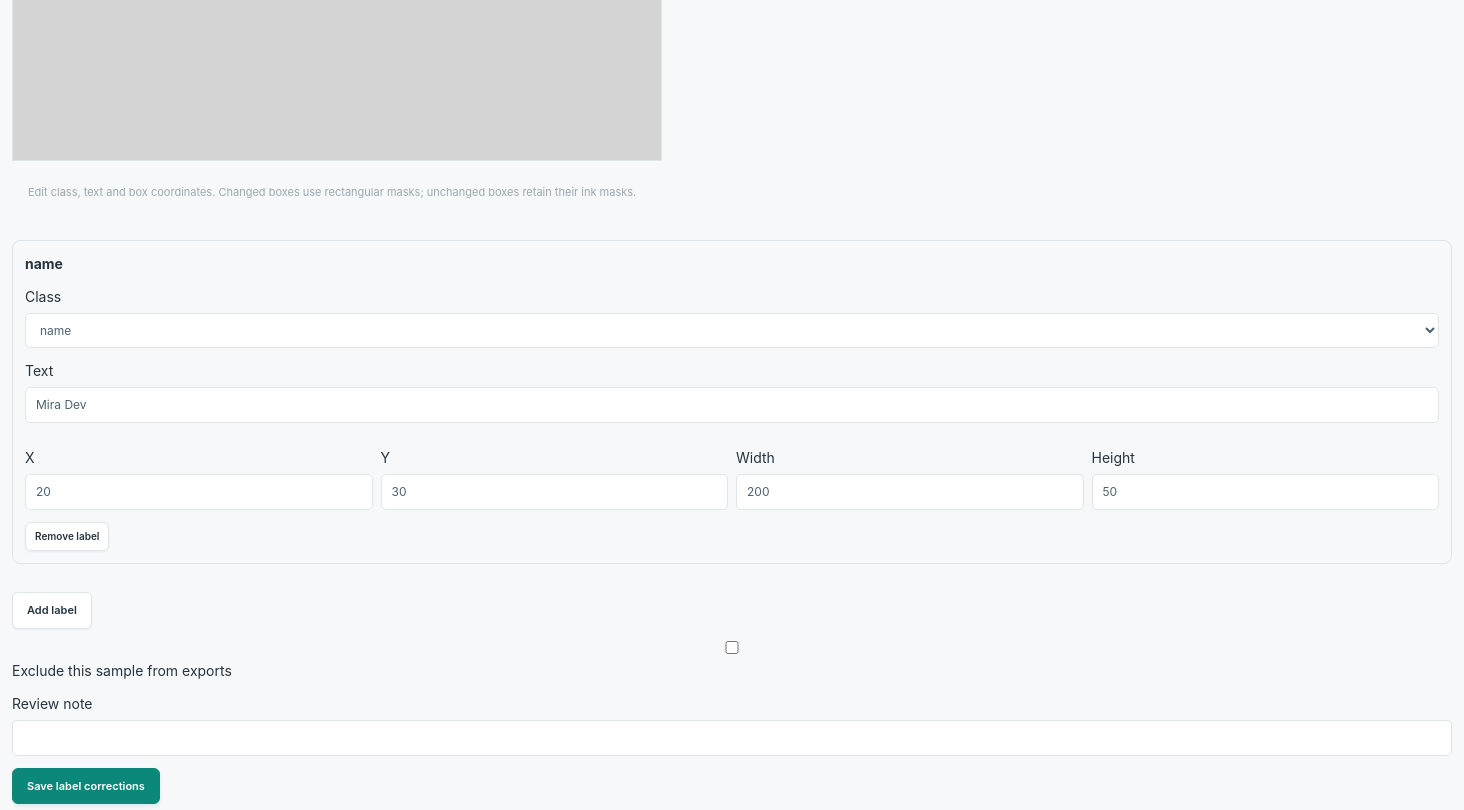
Test case: saves corrected text, class, box and rejection with the loaded revision
The width and height of the screenshot is (1464, 810).
(page scrolled)
Replace the text in the field named "Text name" with "Mira Sen": (732,405) [25,387,1439,423]
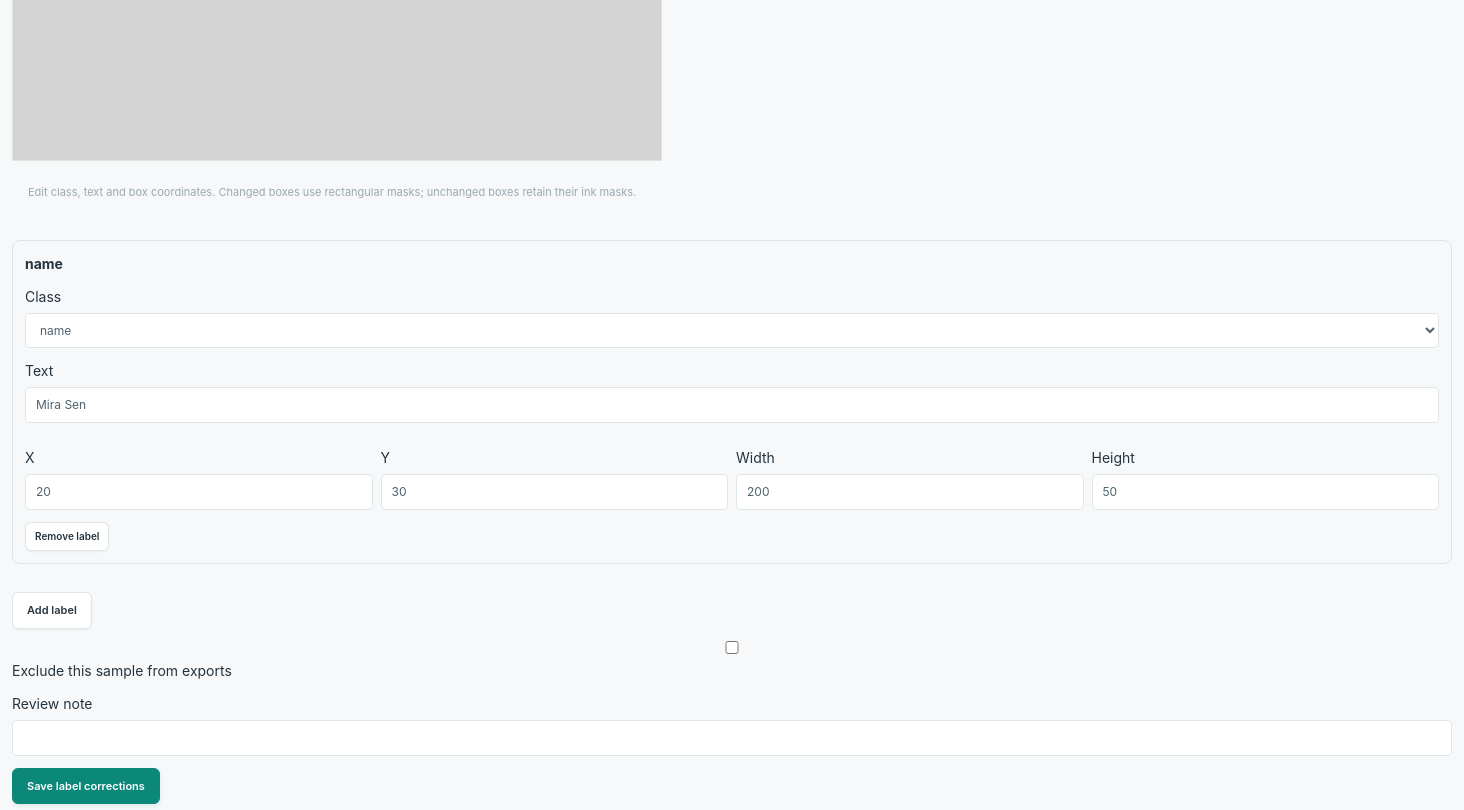
Replace the text in the number field named "X name" with "25": (199,492) [25,474,372,510]
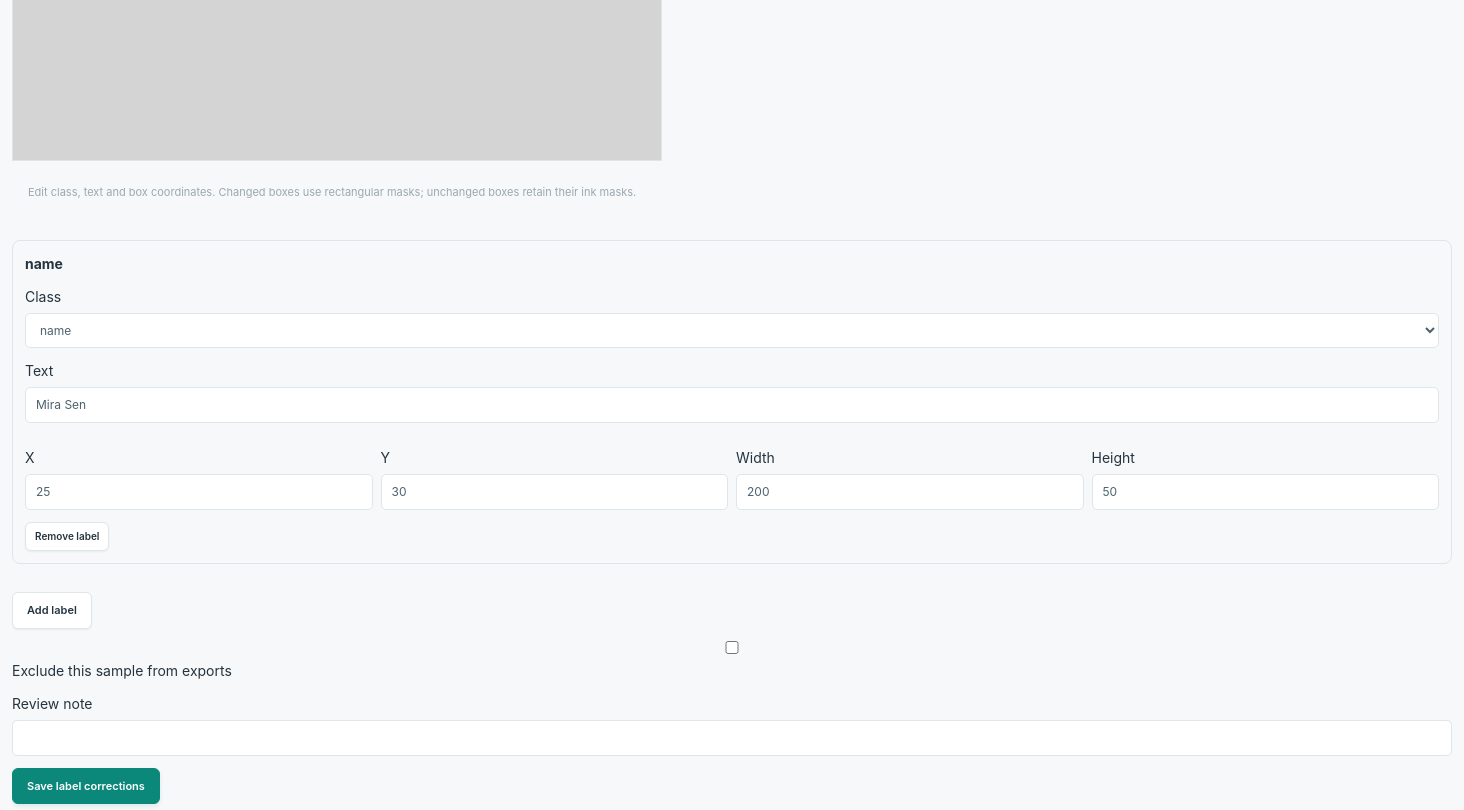
Click the checkbox labelled "Exclude this sample from exports": (732,647) [12,641,1452,654]
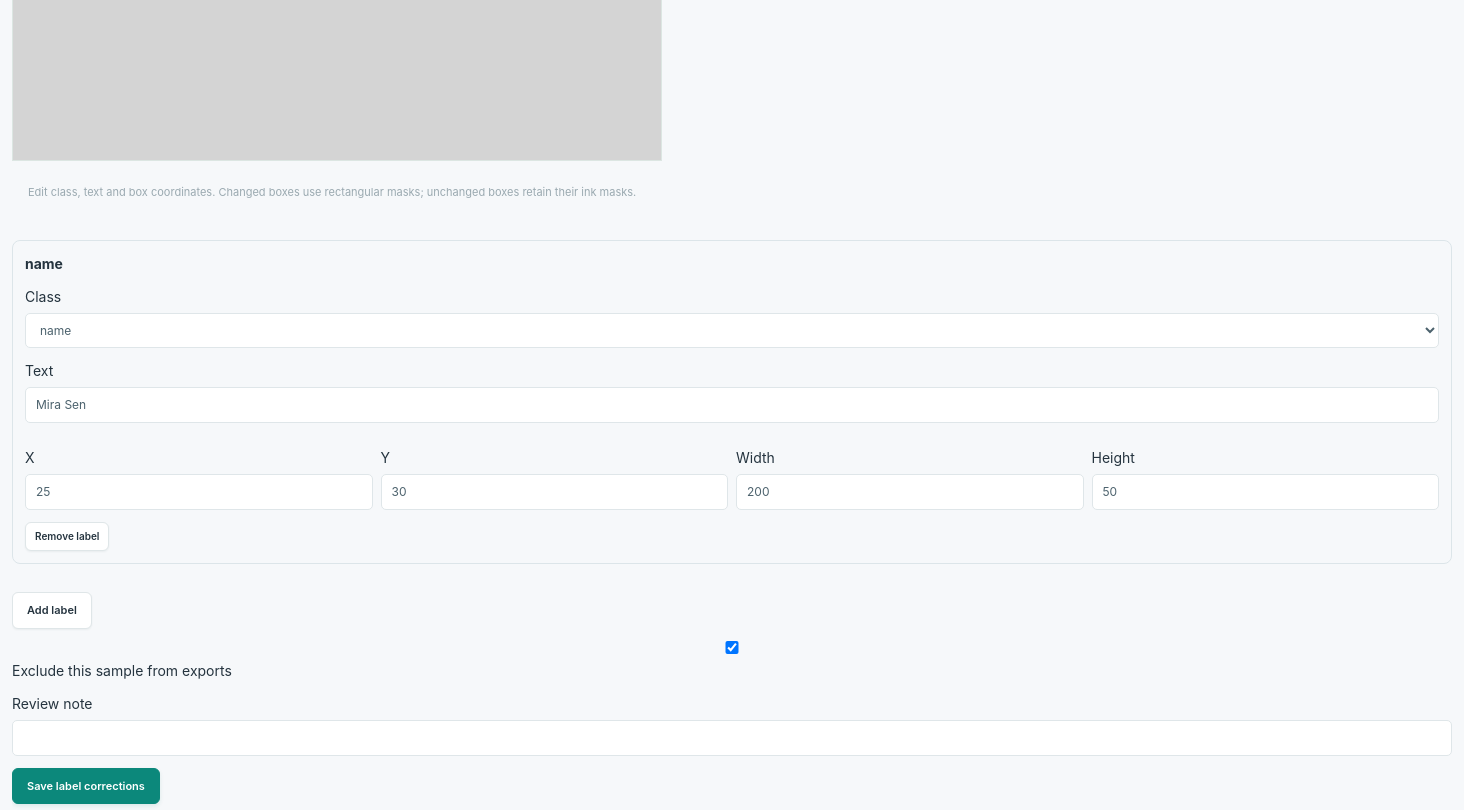
Click the button "Save label corrections": (86,786) [12,768,160,804]
(page scrolled)
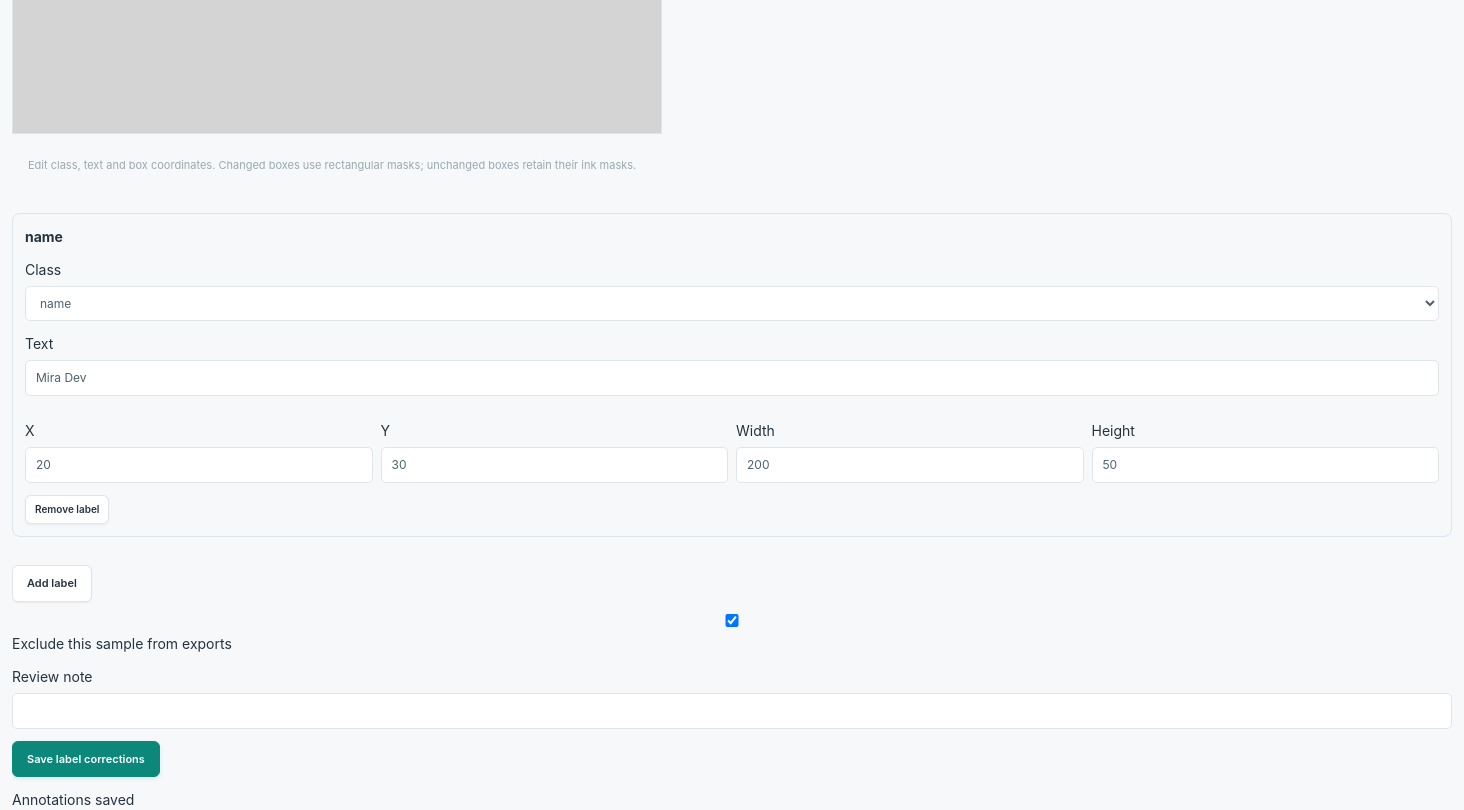
Expected: the text "Annotations saved" is shown, [12,791,134,808]
